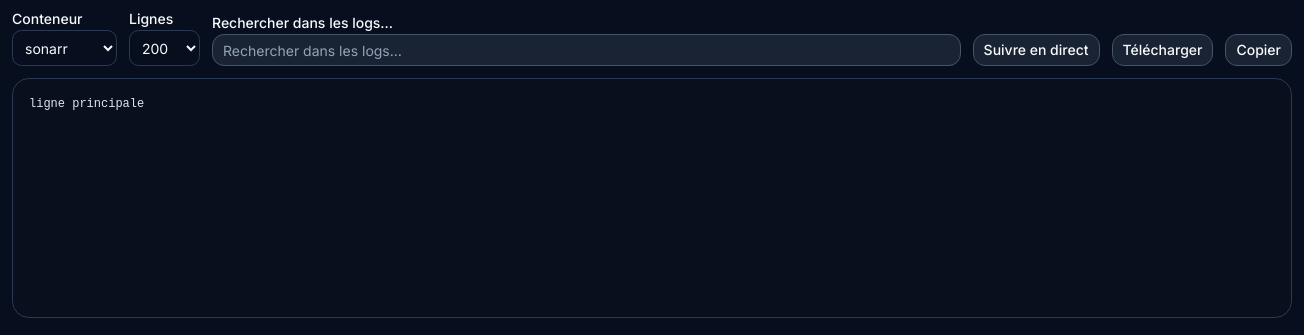
it: AppLogsTab › fetches the selected container
Select "db-sonarr" in the dropdown labelled "Conteneur" at (64,48), box x1=12 y1=30 x2=117 y2=66
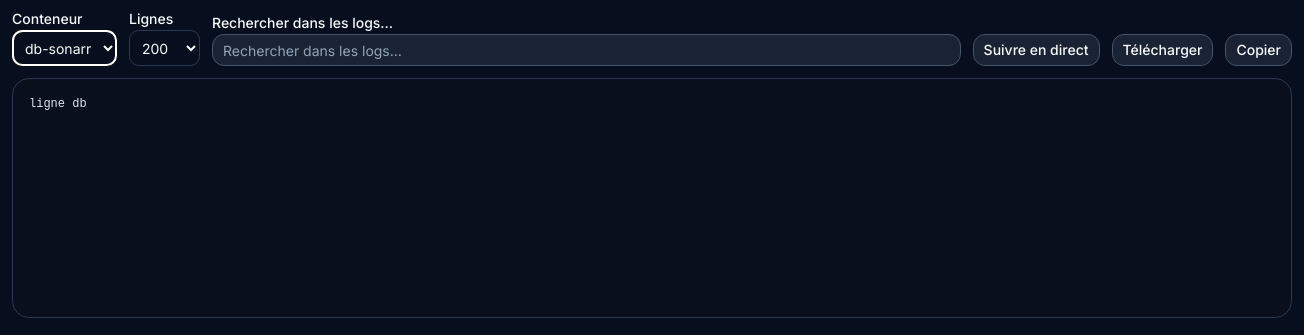
expect the text "ligne db" is shown: met
